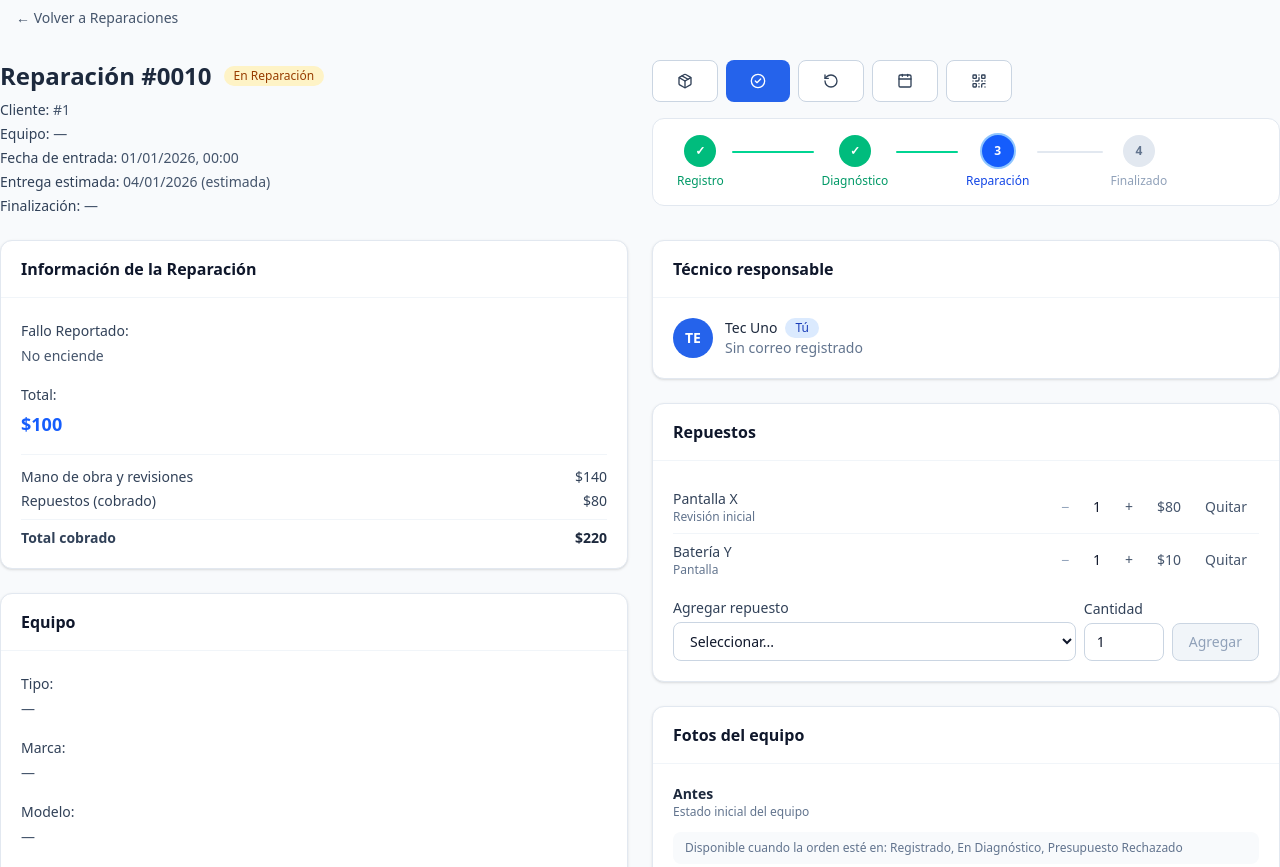
Test: OrdenDetailPage › sección Repuestos › cancelar la confirmación no quita nada
The image size is (1280, 867).
Click the button with aria-label "Quitar Batería Y" at [1226, 560], box [1193,544,1259,576]
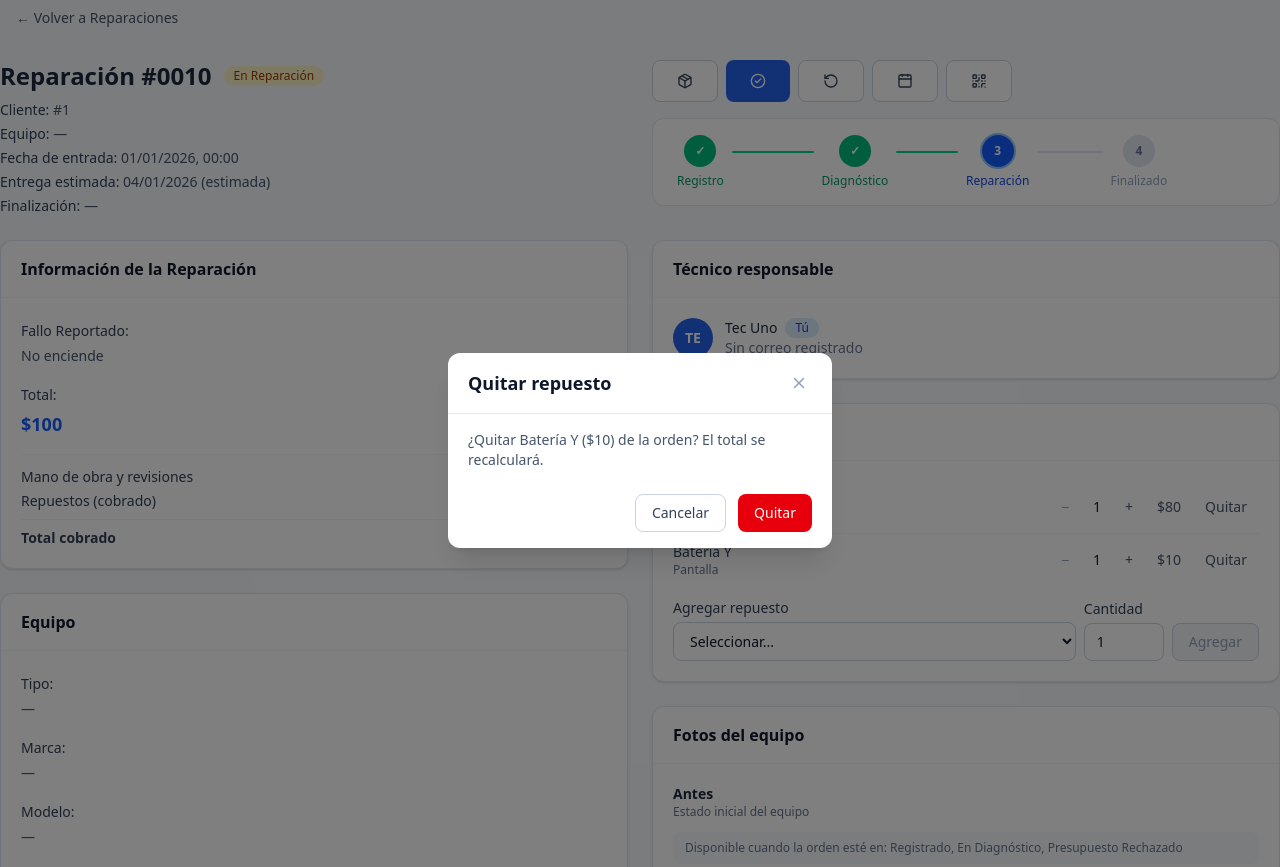
Click the button "Cancelar" at [680, 512], box [635,494,726,532]
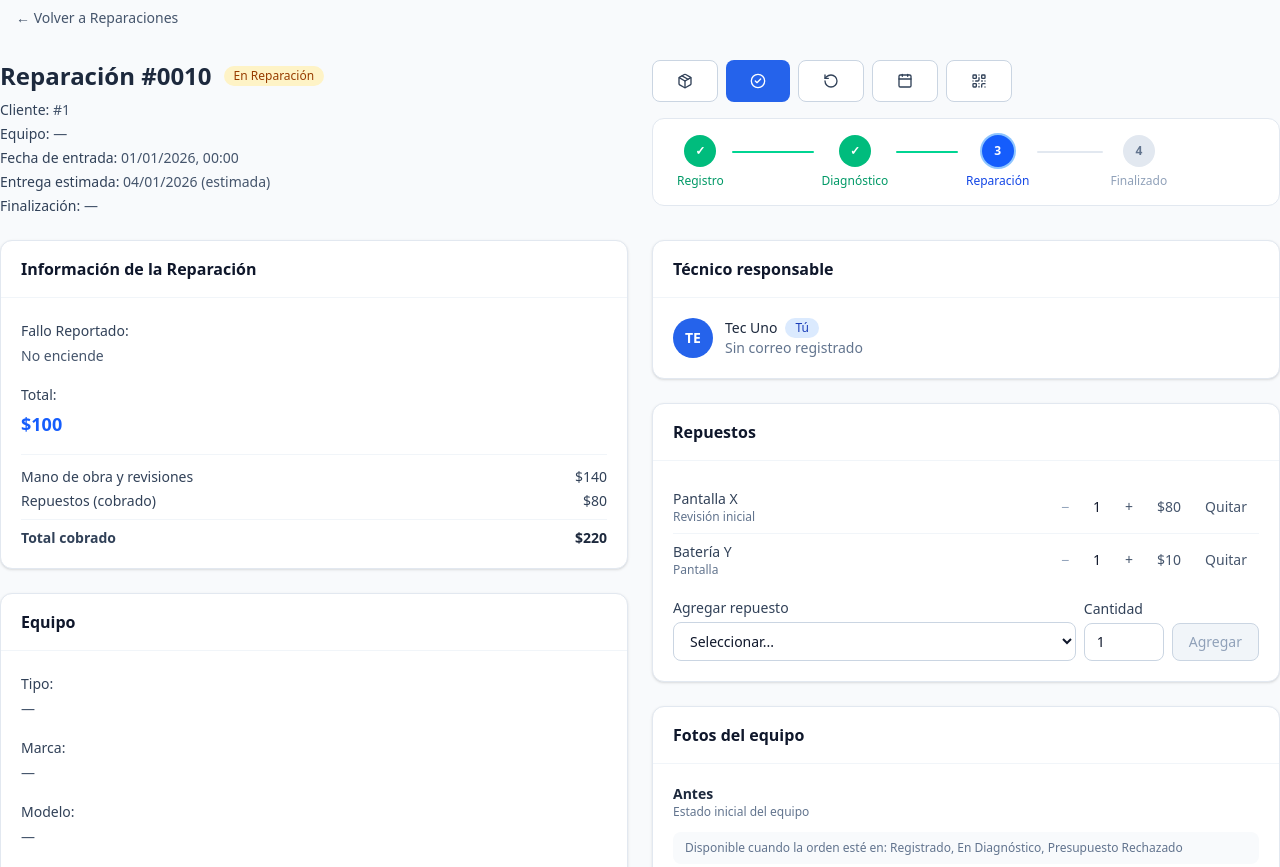
Expected: the dialog is gone
